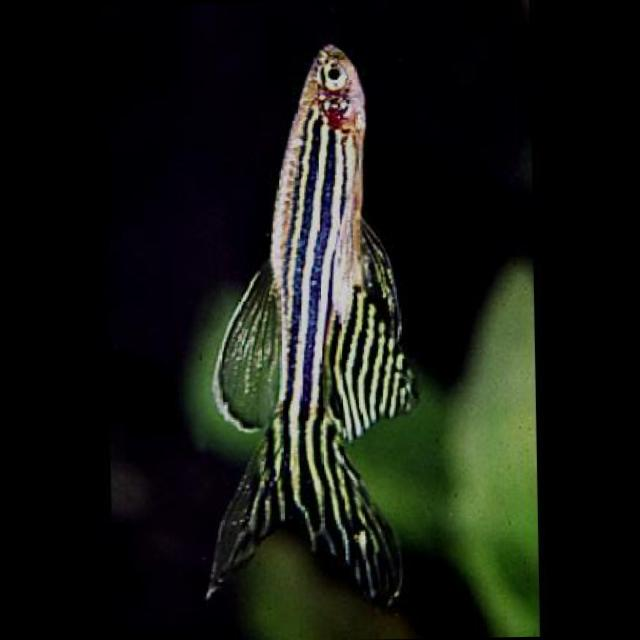ZebraFish: (202, 40, 410, 434)
